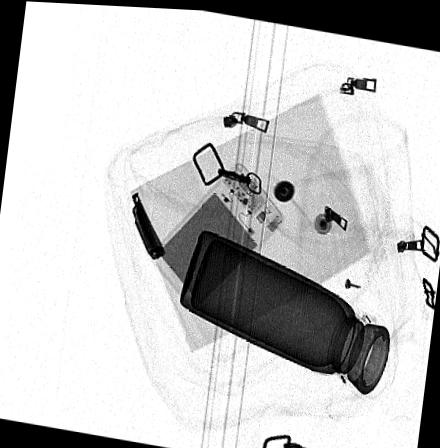Powerbank: (149, 159, 282, 308)
